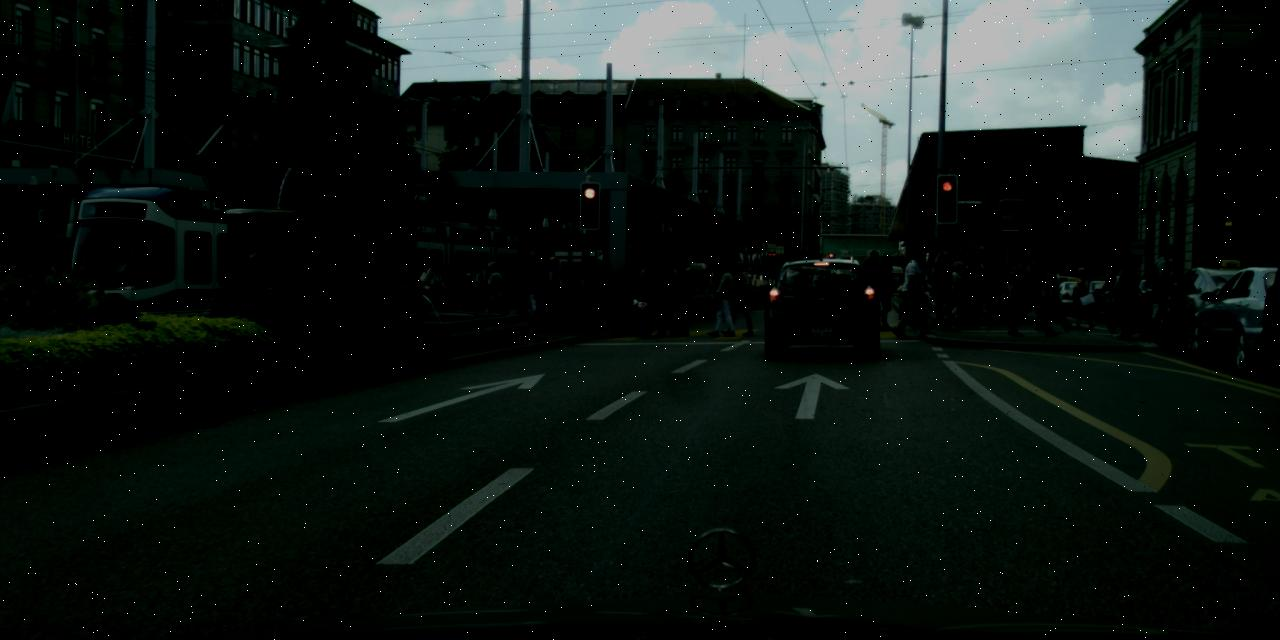ped: (1106, 246, 1178, 342), (898, 248, 932, 334), (1020, 251, 1054, 335), (537, 256, 567, 332), (666, 261, 696, 336), (708, 260, 738, 334), (724, 261, 754, 333), (636, 259, 666, 330), (645, 264, 674, 336), (941, 260, 969, 328), (1041, 262, 1068, 330), (931, 251, 958, 317), (419, 256, 445, 321), (980, 256, 1006, 320), (1003, 254, 1029, 317), (478, 257, 503, 322), (973, 256, 998, 320), (940, 254, 964, 316), (480, 262, 504, 324), (1070, 266, 1094, 327), (458, 262, 481, 319), (450, 266, 472, 321)
